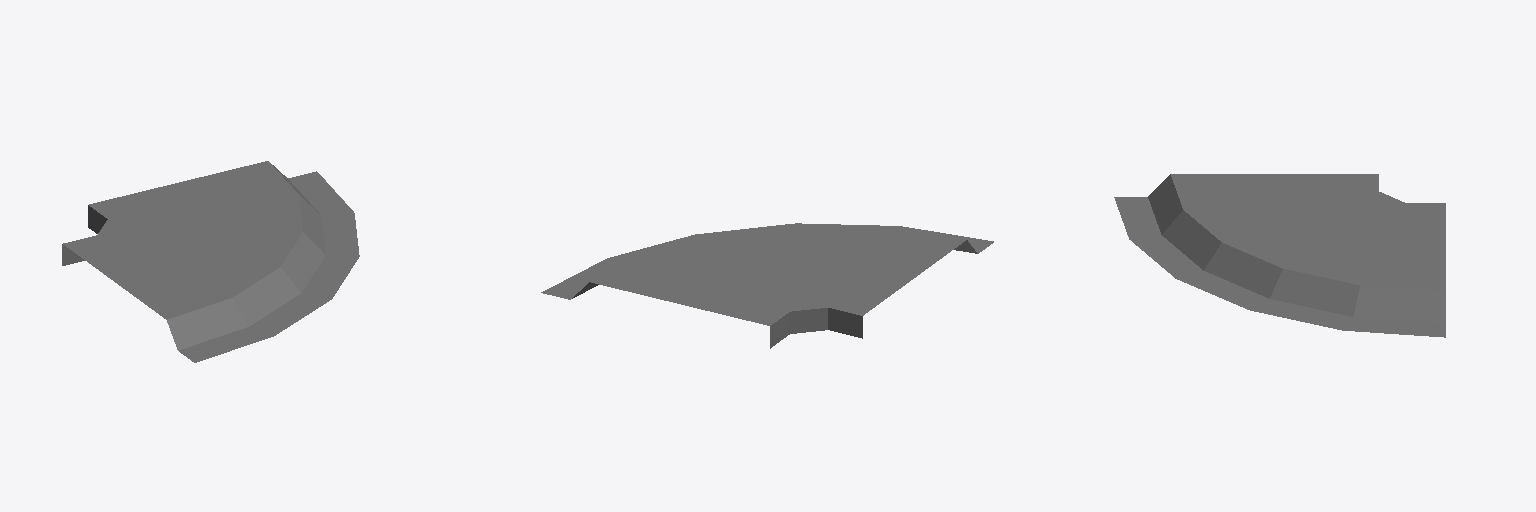
Rendered from Gehweg_Ecke.obj.
3 renders of one model, left to right at view 1: azimuth 30°, elevation 25°; view 2: azimuth 150°, elevation 25°; view 3: azimuth 270°, elevation 25°, orthographic.
Visible parts, largest first — view 1: Gehweg_Ecke:Gehweg_Ecke1; view 2: Gehweg_Ecke:Gehweg_Ecke1; view 3: Gehweg_Ecke:Gehweg_Ecke1.
Part boxes in pixels (x1,y1,x2,y2): Gehweg_Ecke:Gehweg_Ecke1: (62,161,359,362); Gehweg_Ecke:Gehweg_Ecke1: (541,223,993,348); Gehweg_Ecke:Gehweg_Ecke1: (1114,174,1445,337).
Bounding box in the file's own units: 216 × 16.15 × 216.